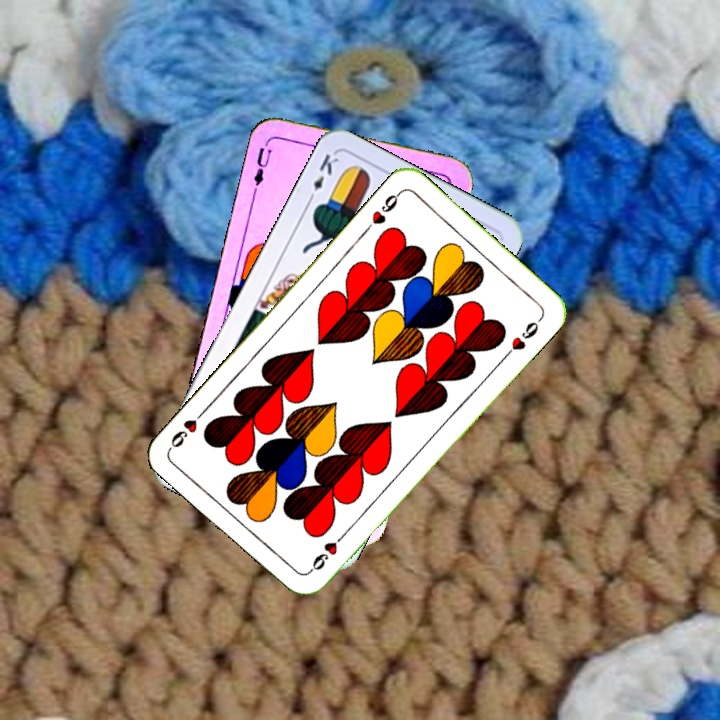EK: (303, 149, 342, 206)
EU: (249, 136, 274, 195)
H9: (305, 528, 350, 575), (360, 187, 404, 235)
